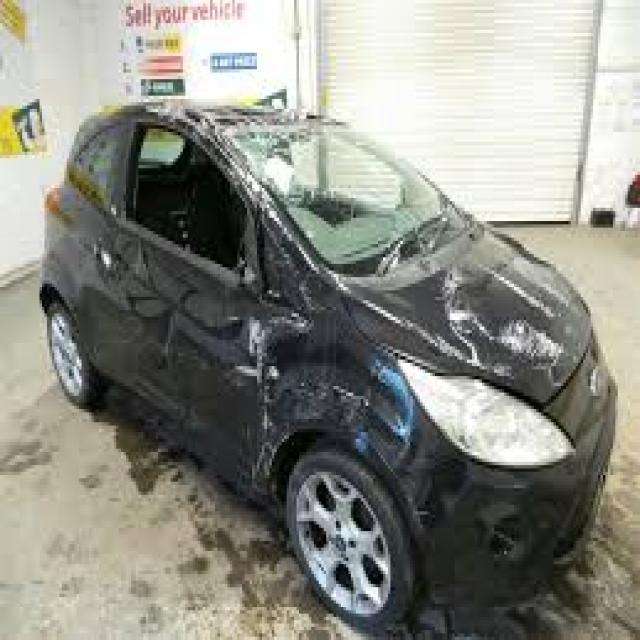moderate: (110, 76, 590, 465)
